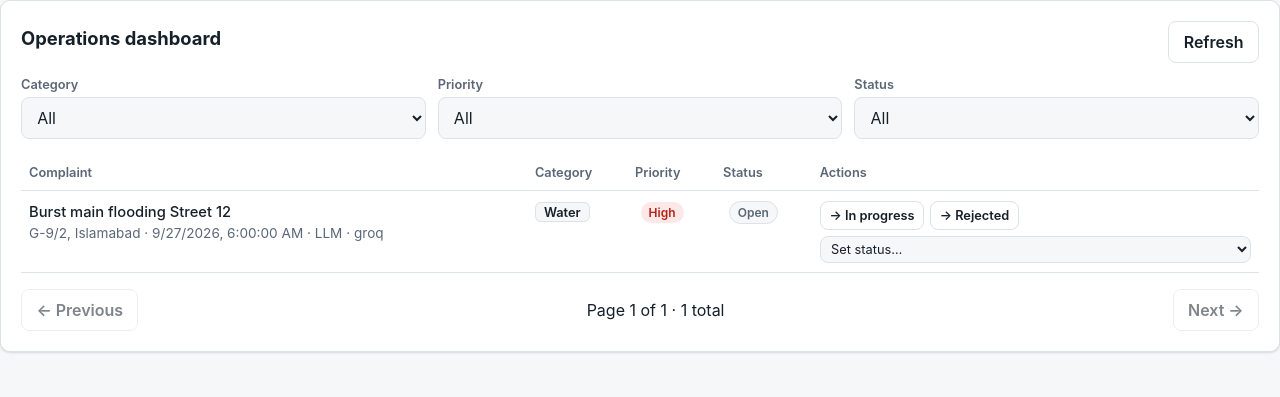
Test: DashboardPage › surfaces the server's 409 message verbatim, next to the row
Select "Resolved" in the dropdown named "set status for complaint": (1035, 249) [820, 236, 1251, 262]
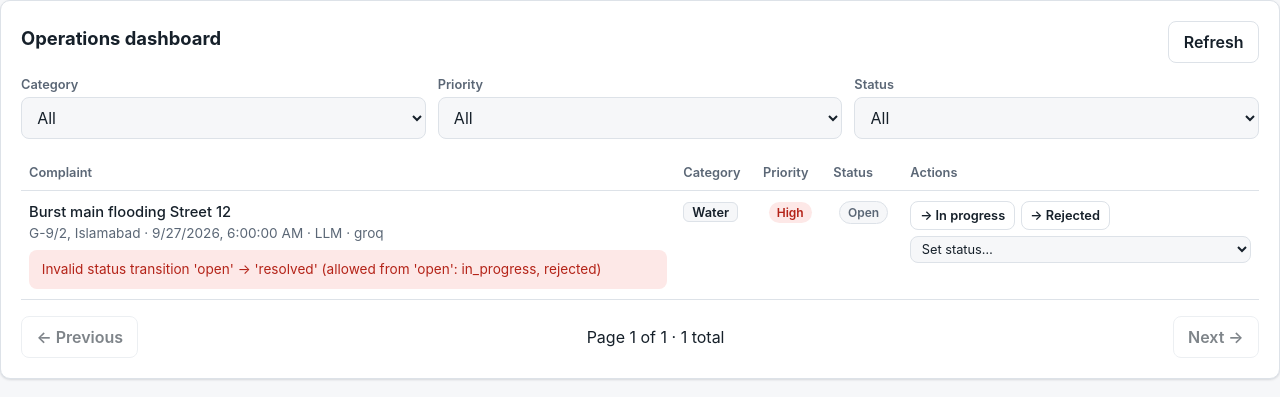
Now the message shows "Invalid status transition 'open' -> 'resolved' (allowed from 'open': in_progress, rejected)", box [42, 261, 601, 277]
